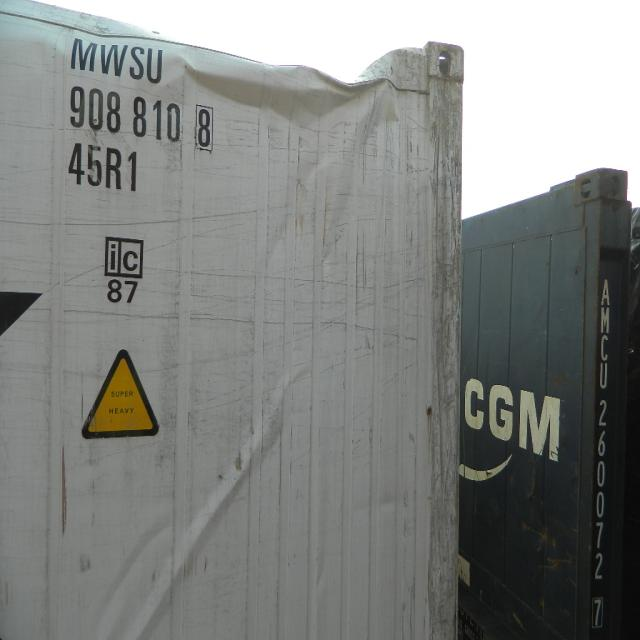dent: (81, 360, 312, 640), (171, 79, 408, 284), (208, 39, 418, 101)
